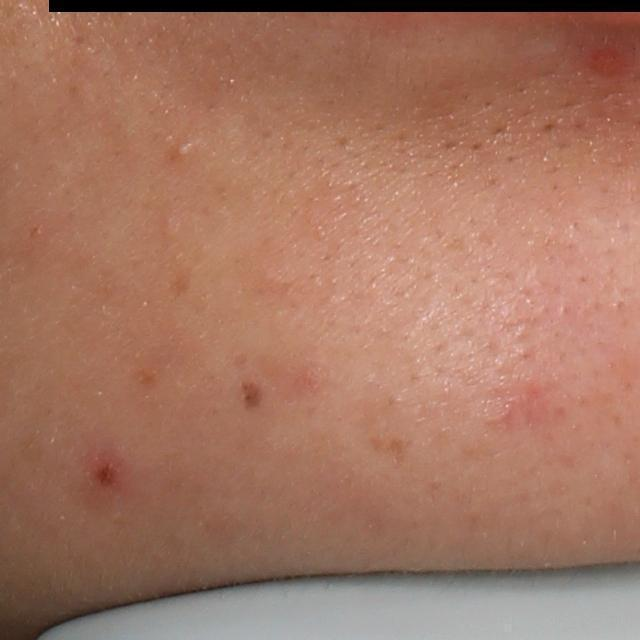comedo: (157, 213, 186, 240), (176, 141, 194, 158)
nevus: (235, 376, 266, 410)
papule: (87, 450, 124, 493), (589, 48, 619, 78)
